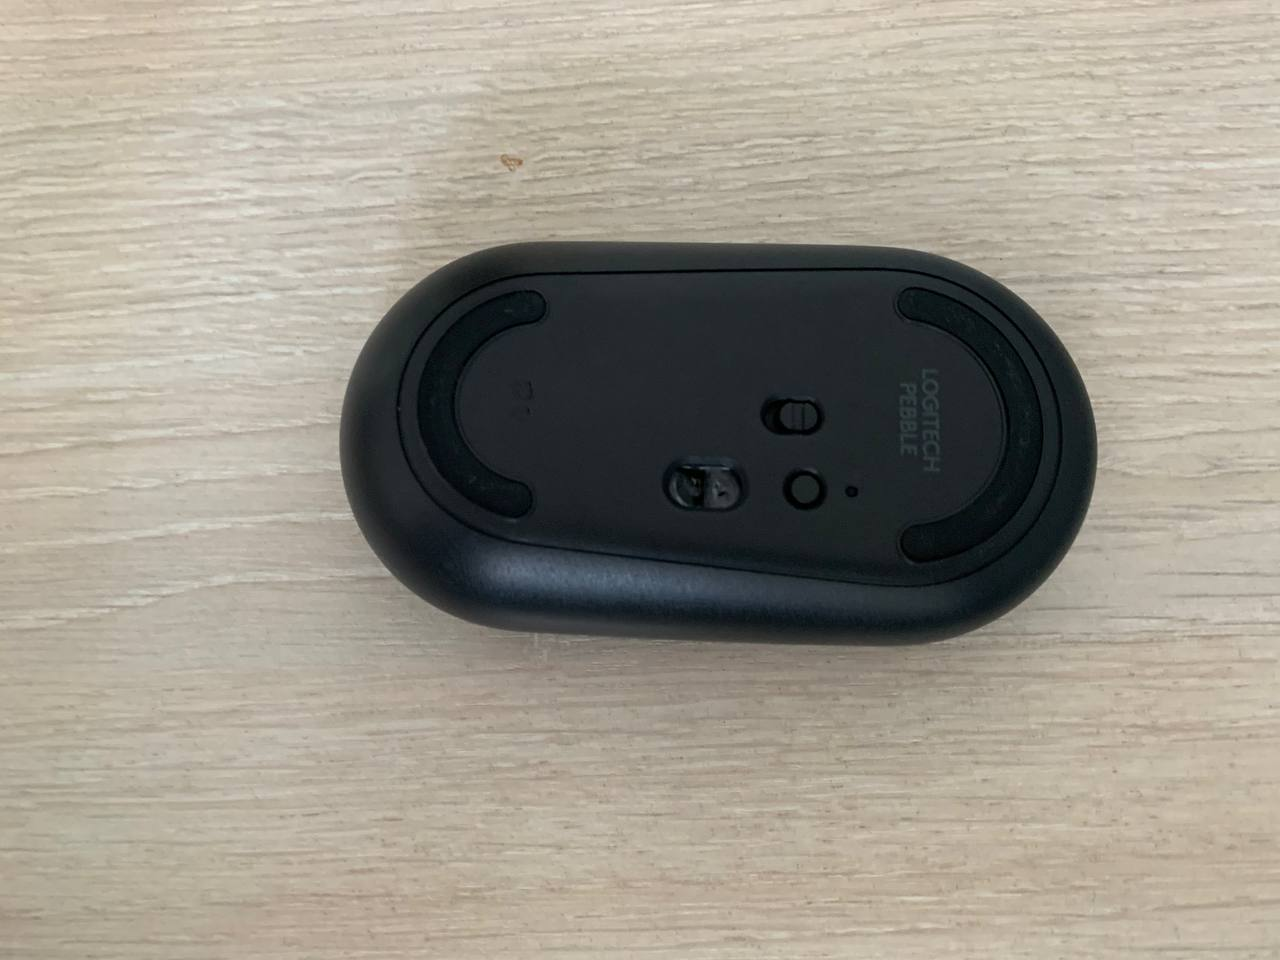mouse: (341, 243, 1096, 643)
